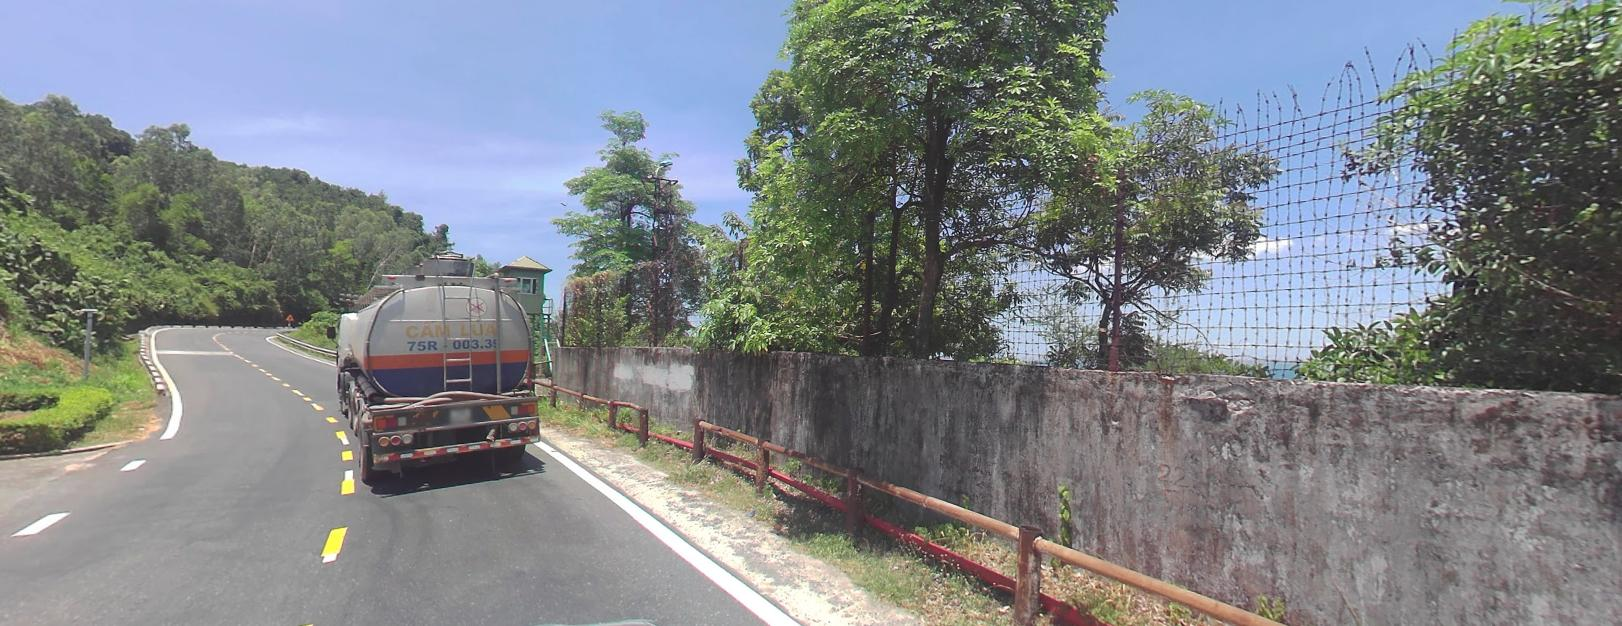Nguy hiem: (284, 311, 294, 320)
